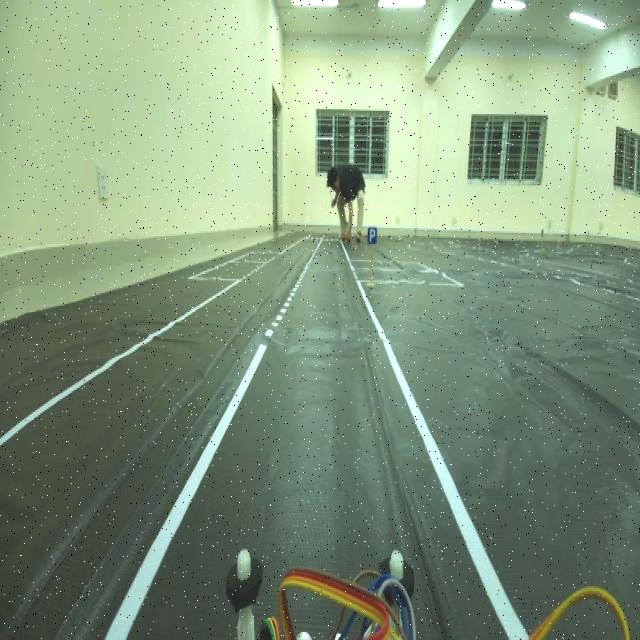parking: (364, 217, 381, 253)
